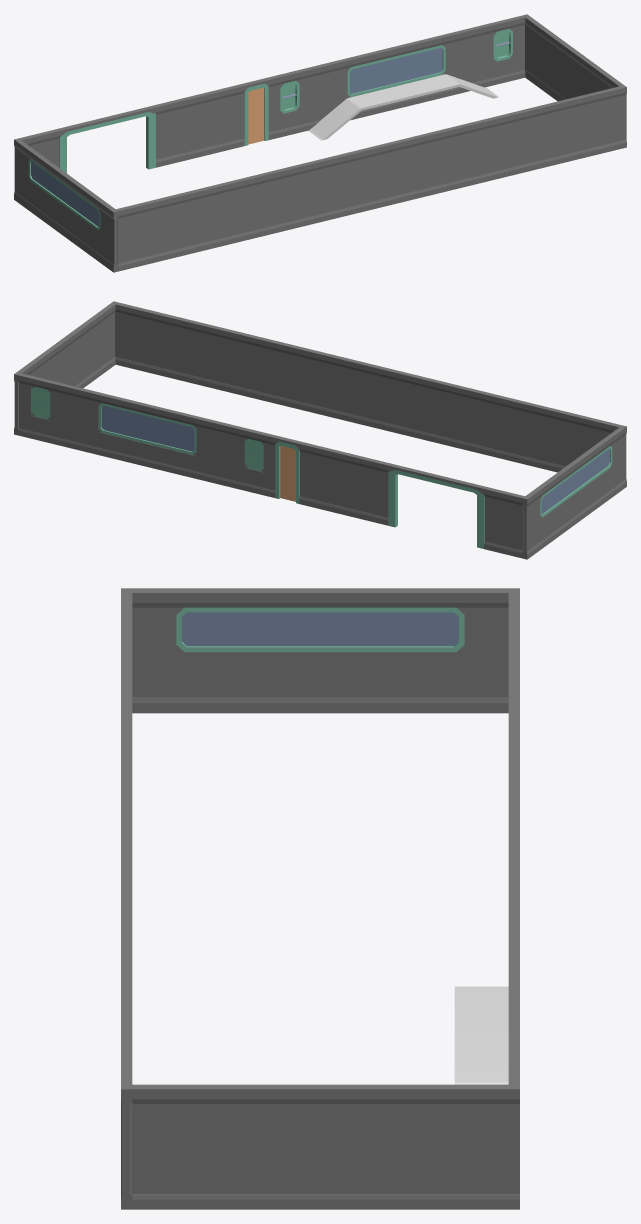
File: level4wallp1.fbx
3 renders of one model, top to bottom at view 1: azimuth 30°, elevation 25°; view 2: azimuth 150°, elevation 25°; view 3: azimuth 270°, elevation 25°, orthographic. The views are drawn at different scales.
Parts seen in each view (by area): view 1: DUVAR140, DUVAR141, DUVAR144, DUVAR139, Box026, DUVAR148, Line035, KAPIKASA-203, Box029, LY003, Line036, DUVAR147 (+5 smaller); view 2: DUVAR140, DUVAR141, DUVAR144, DUVAR139, Box026, DUVAR145, DUVAR148, KAPIKASA-203, Box029, LY003, DUVAR146, DUVAR147 (+3 smaller); view 3: DUVAR139, DUVAR148, Box029, DUVAR140, DUVAR149, DUVAR146, DUVAR147, DUVAR141, Line036, Line035, KAPIKASA-203, DUVAR144.
Part boxes in pixels (bbox=[...]): DUVAR140: bbox=[116, 85, 626, 271]; DUVAR141: bbox=[266, 15, 525, 139]; DUVAR144: bbox=[153, 84, 244, 167]; DUVAR139: bbox=[523, 14, 623, 101]; Box026: bbox=[347, 44, 445, 97]; DUVAR148: bbox=[28, 180, 100, 262]; Line035: bbox=[308, 86, 410, 140]; KAPIKASA-203: bbox=[57, 105, 155, 173]; Box029: bbox=[28, 157, 100, 231]; LY003: bbox=[280, 28, 512, 114]; Line036: bbox=[397, 74, 499, 98]; DUVAR147: bbox=[100, 201, 118, 272]; DUVAR140: bbox=[111, 301, 621, 472]; DUVAR141: bbox=[18, 373, 277, 497]; DUVAR144: bbox=[299, 442, 390, 525]; DUVAR139: bbox=[14, 303, 115, 435]; Box026: bbox=[98, 402, 196, 455]; DUVAR145: bbox=[484, 487, 524, 558]; DUVAR148: bbox=[540, 467, 612, 549]; KAPIKASA-203: bbox=[388, 463, 486, 548]; Box029: bbox=[540, 444, 612, 518]; LY003: bbox=[31, 386, 263, 471]; DUVAR146: bbox=[522, 488, 540, 559]; DUVAR147: bbox=[608, 425, 626, 496]; DUVAR139: bbox=[132, 1084, 519, 1209]; DUVAR148: bbox=[176, 652, 464, 713]; Box029: bbox=[176, 607, 464, 652]; DUVAR140: bbox=[121, 593, 132, 1209]; DUVAR149: bbox=[176, 588, 464, 607]; DUVAR146: bbox=[464, 588, 519, 713]; DUVAR147: bbox=[121, 588, 176, 713]; DUVAR141: bbox=[508, 834, 519, 1084]; Line036: bbox=[454, 1034, 508, 1084]; Line035: bbox=[454, 986, 508, 1034]; KAPIKASA-203: bbox=[508, 630, 519, 723]; DUVAR144: bbox=[508, 724, 519, 810].
Bounding box in the file's own units: 1070 × 120 × 360.
